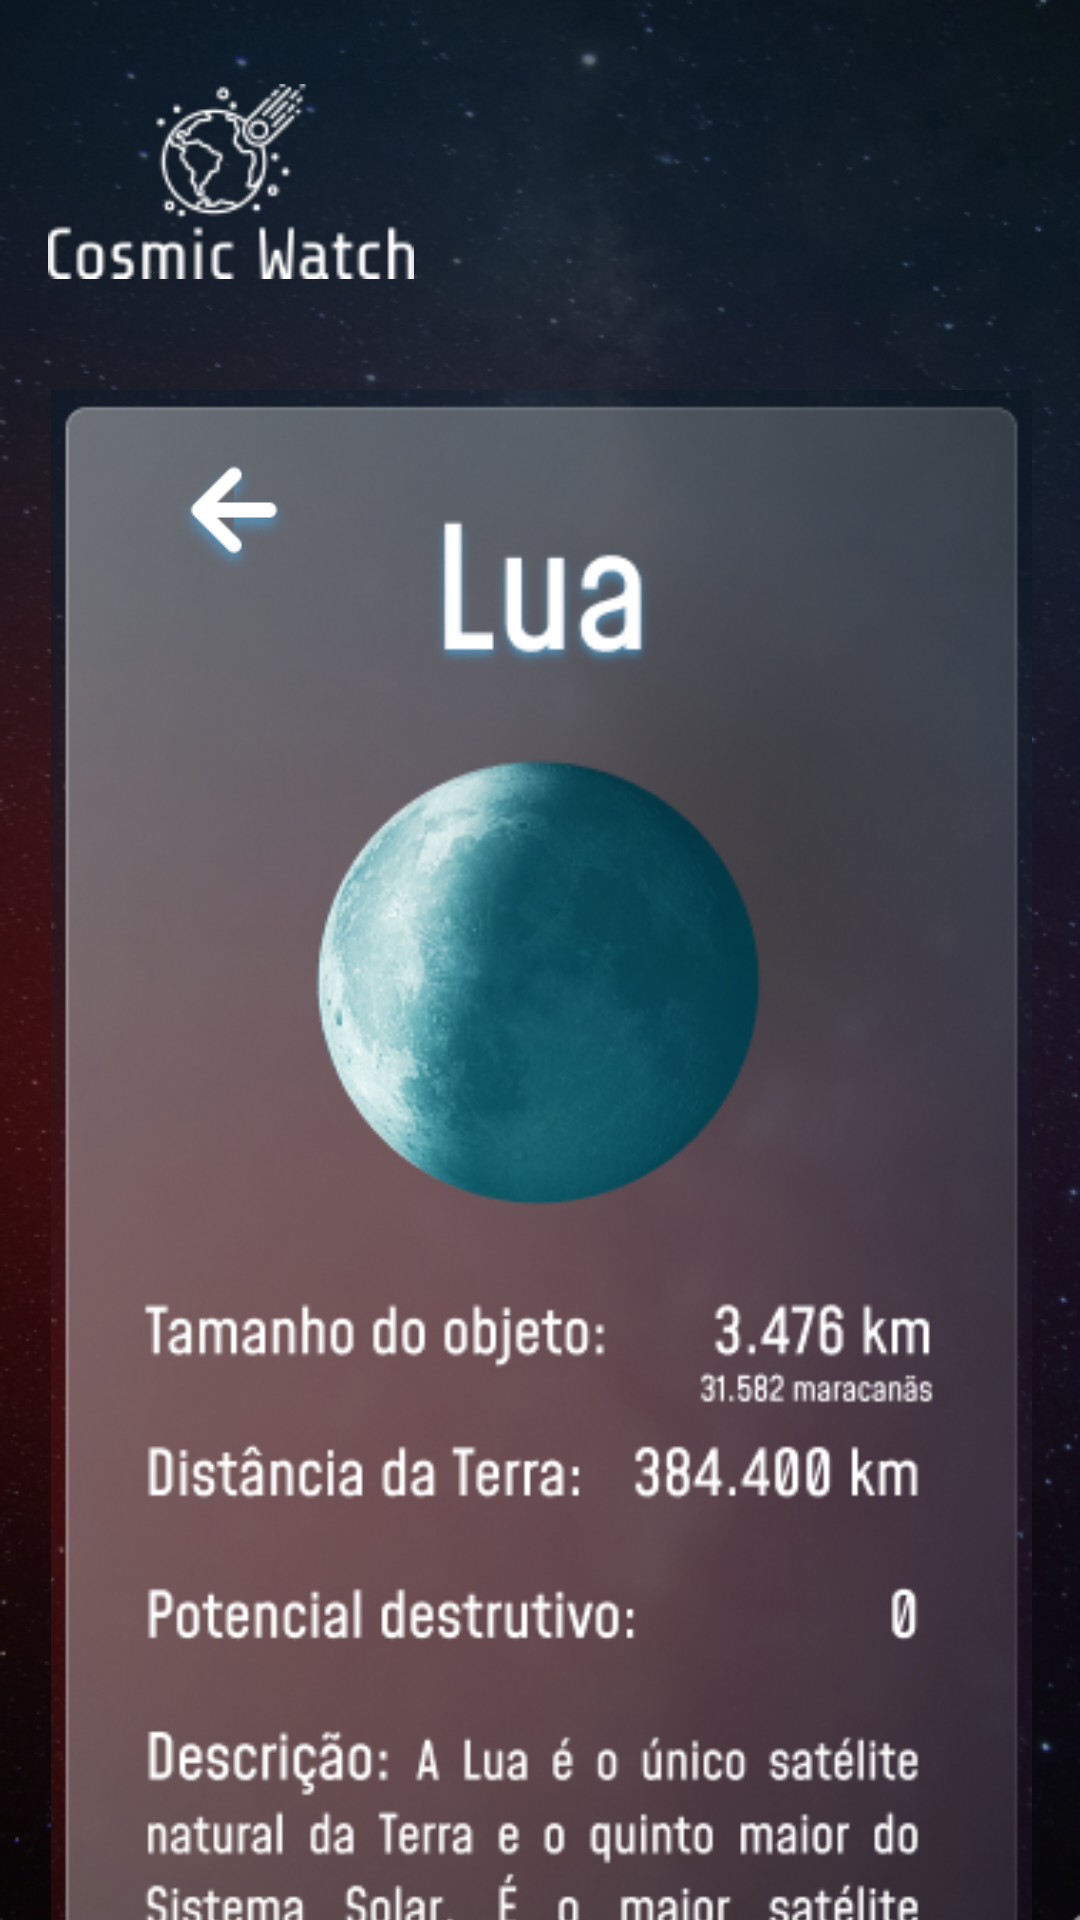

Screen size 1080 × 1920. Icon name, then its box in pixels as (x1, y1, x2, y2):
seta: (190, 466, 278, 561)
